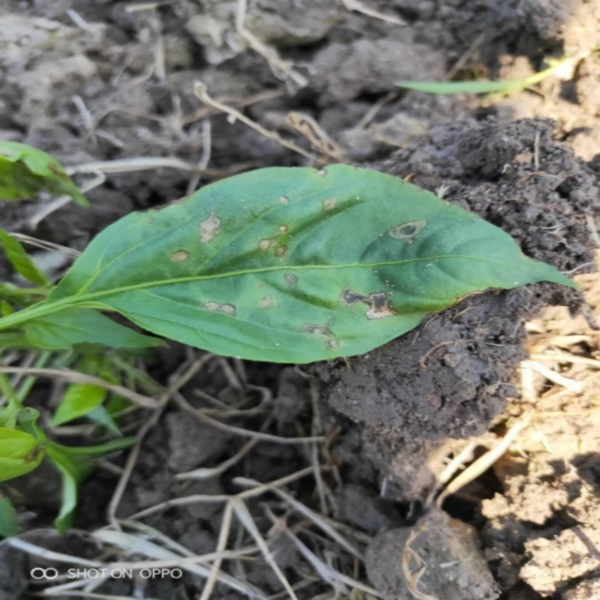Anthrax: (56, 165, 524, 365)
